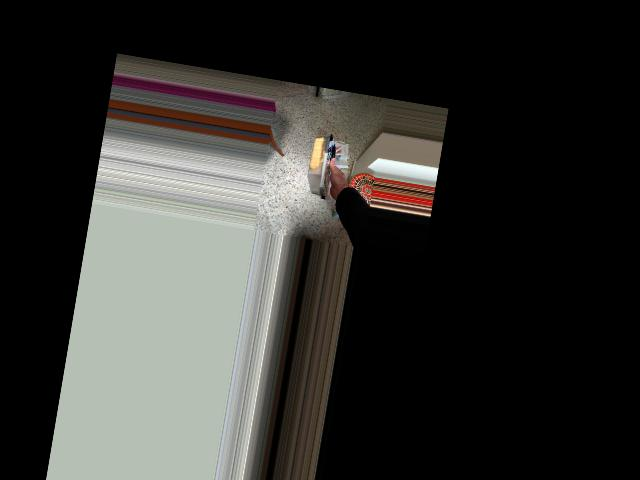cheese: (298, 131, 374, 209)
